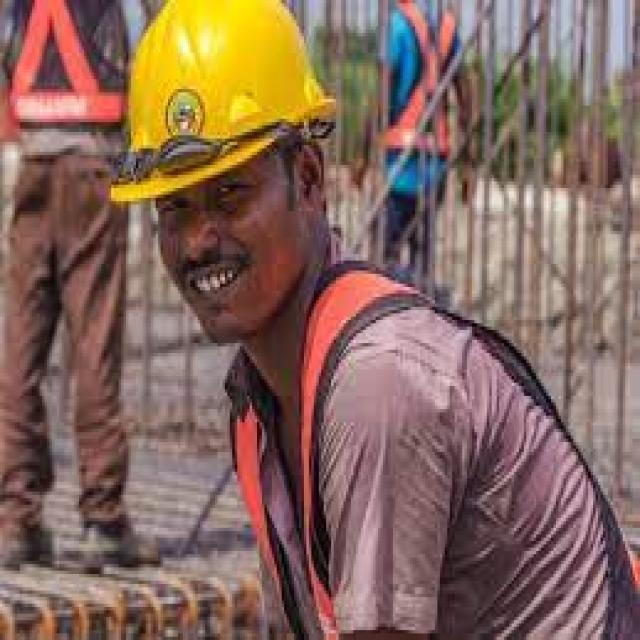Reflective-Jacket: (185, 257, 633, 640), (363, 0, 476, 191)
Safety-Helmet: (109, 3, 343, 211)
